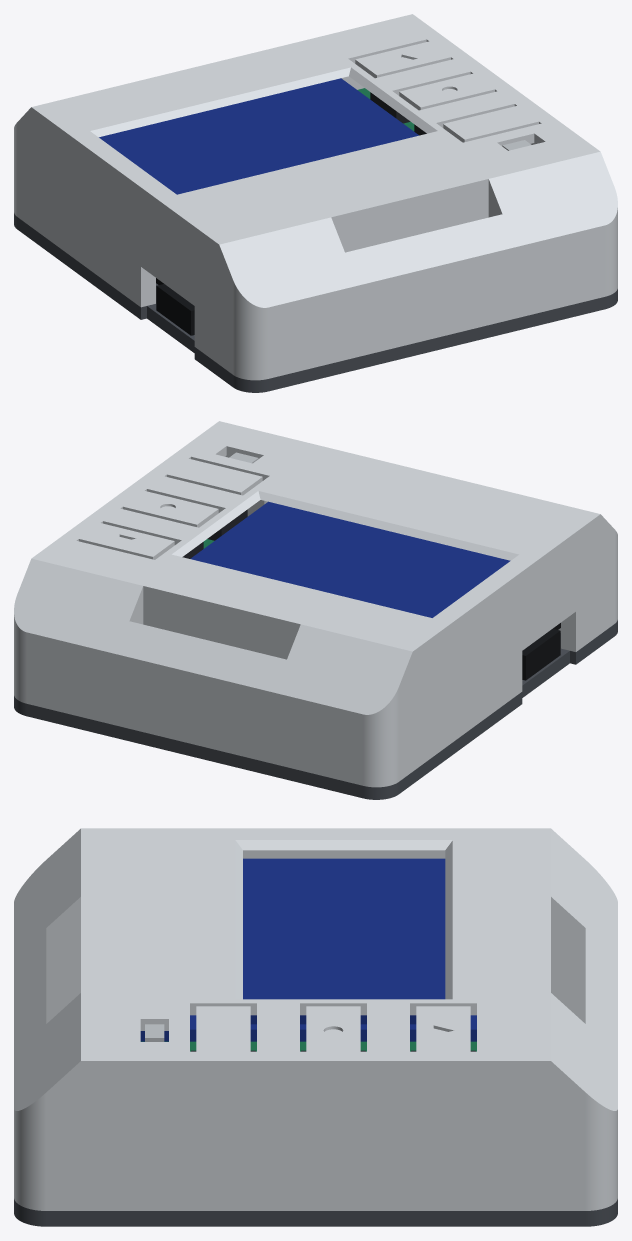
The model's file is watch.glb.
3 renders of one model, top to bottom at view 1: azimuth 30°, elevation 25°; view 2: azimuth 150°, elevation 25°; view 3: azimuth 270°, elevation 25°, orthographic. The views are drawn at different scales.
Visible parts, largest first — view 1: Shell, OLED, Back plate, ESP32-C6; view 2: Shell, OLED, Back plate, ESP32-C6; view 3: Shell, OLED, Back plate.
Part boxes in pixels (<box>): Shell: <box>14,14,617,380</box>; OLED: <box>99,78,418,194</box>; Back plate: <box>14,213,617,392</box>; ESP32-C6: <box>156,278,194,335</box>; Shell: <box>14,421,617,787</box>; OLED: <box>190,501,510,617</box>; Back plate: <box>14,620,617,799</box>; ESP32-C6: <box>522,623,560,680</box>; Shell: <box>14,828,617,1210</box>; OLED: <box>140,858,476,1041</box>; Back plate: <box>14,1199,617,1226</box>.
Bounding box in the file's own units: 0.0509 × 0.0169 × 0.0558.
